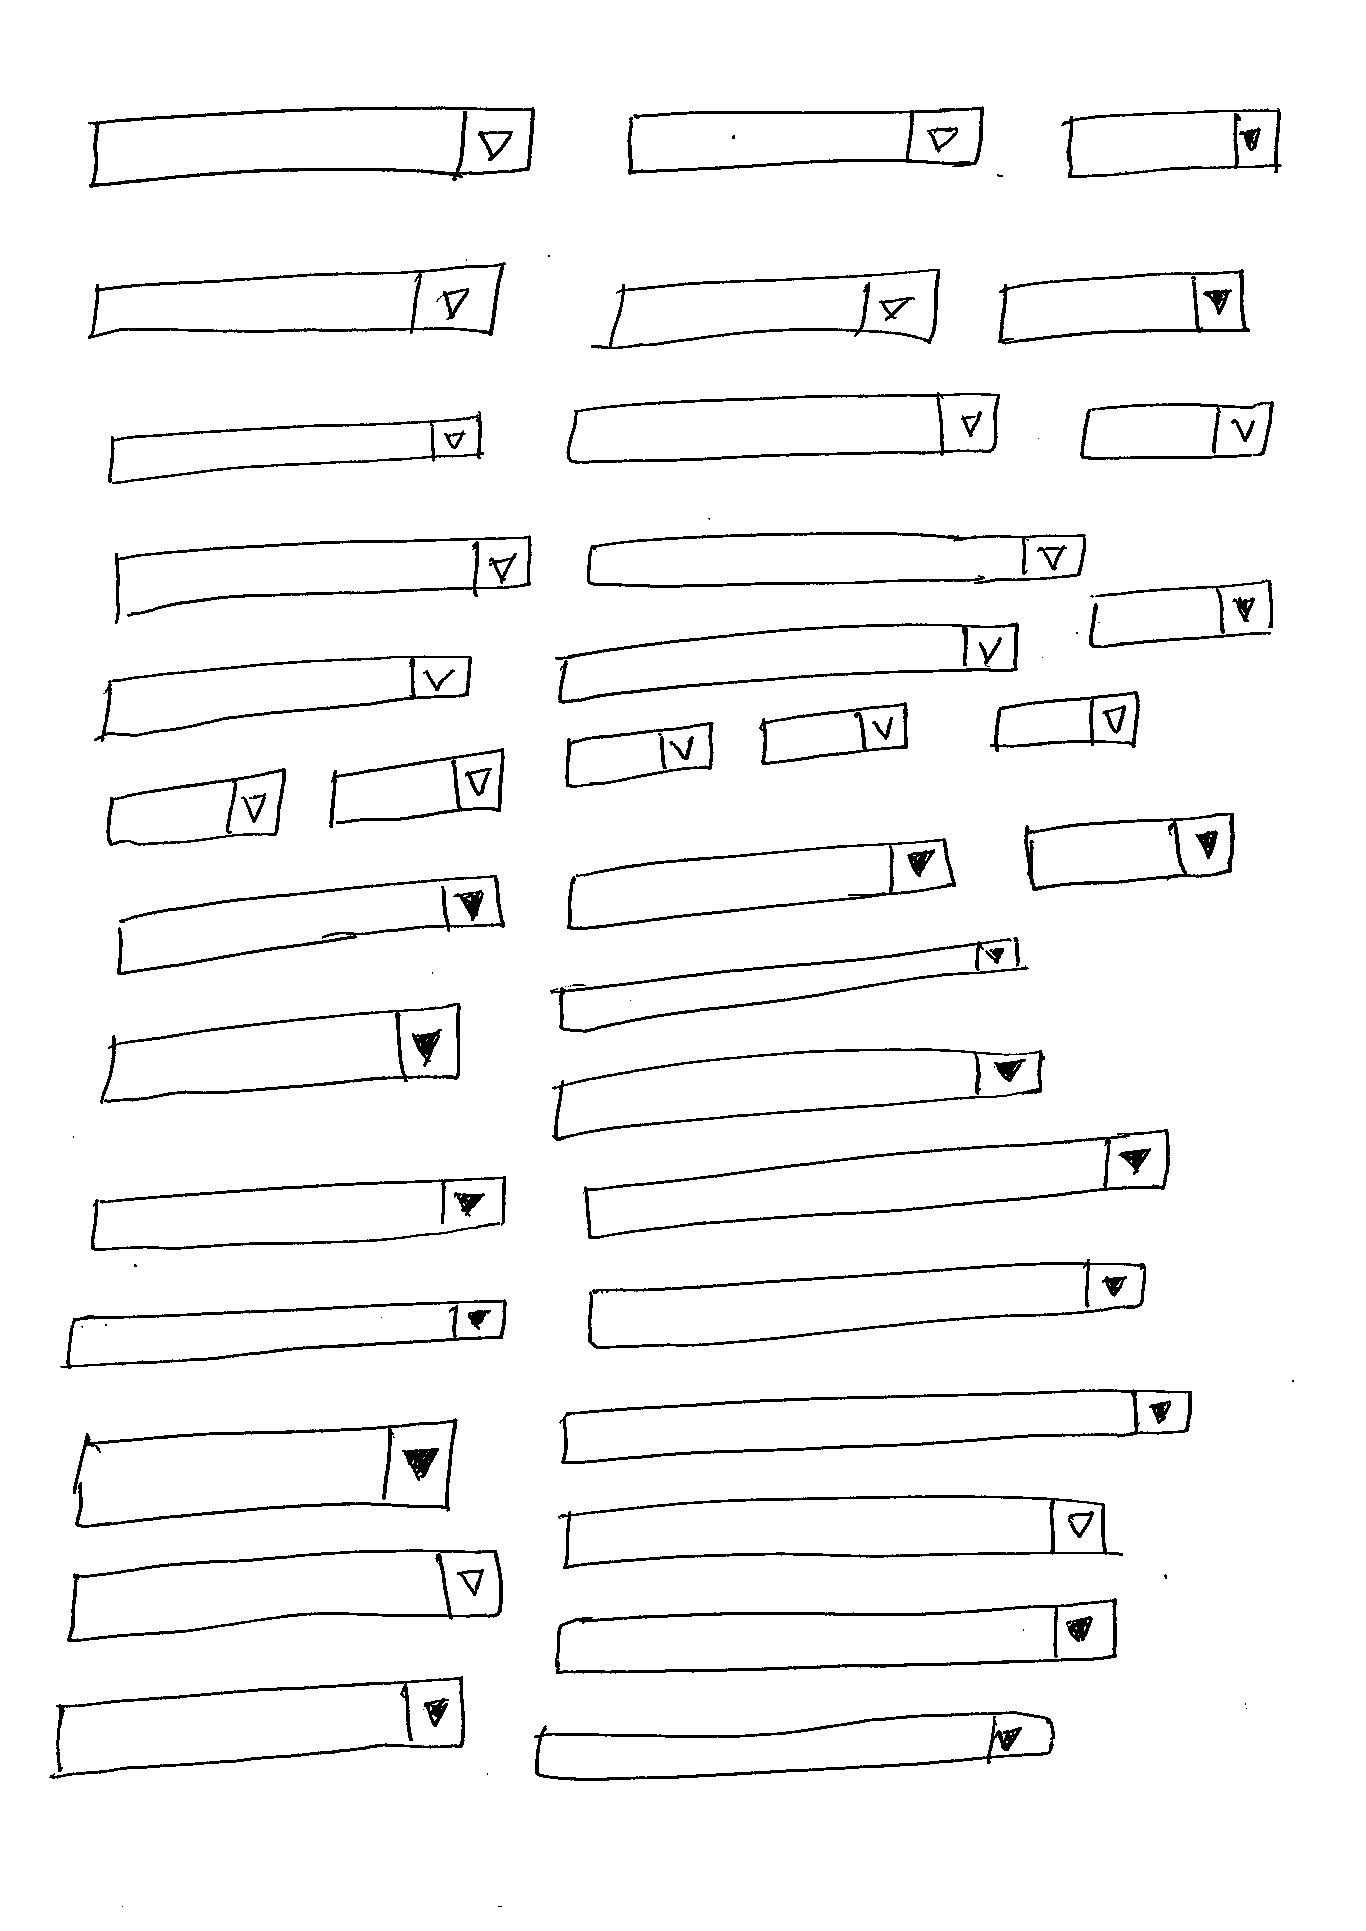Select: (582, 1130, 1171, 1242), (557, 1385, 1195, 1467), (584, 1260, 1147, 1351), (554, 931, 1022, 1036), (551, 1045, 1044, 1141), (551, 1598, 1122, 1677), (62, 1547, 504, 1646), (52, 1677, 469, 1782), (71, 1416, 457, 1529), (86, 101, 537, 197), (112, 872, 504, 979), (559, 1492, 1112, 1567), (565, 835, 959, 934), (98, 1001, 464, 1107), (109, 532, 534, 624), (531, 1709, 1056, 1782), (551, 624, 1017, 701), (62, 1292, 509, 1372), (87, 1170, 507, 1254), (96, 652, 476, 744), (86, 262, 501, 342), (565, 390, 999, 466), (582, 529, 1090, 587), (605, 266, 942, 350), (619, 101, 988, 177), (102, 413, 483, 486), (992, 268, 1248, 346), (1022, 809, 1239, 895), (1064, 106, 1282, 182), (101, 766, 288, 852), (327, 744, 507, 831), (1082, 577, 1277, 651), (1078, 399, 1274, 461), (560, 722, 716, 793), (989, 688, 1144, 753), (758, 701, 909, 766)
